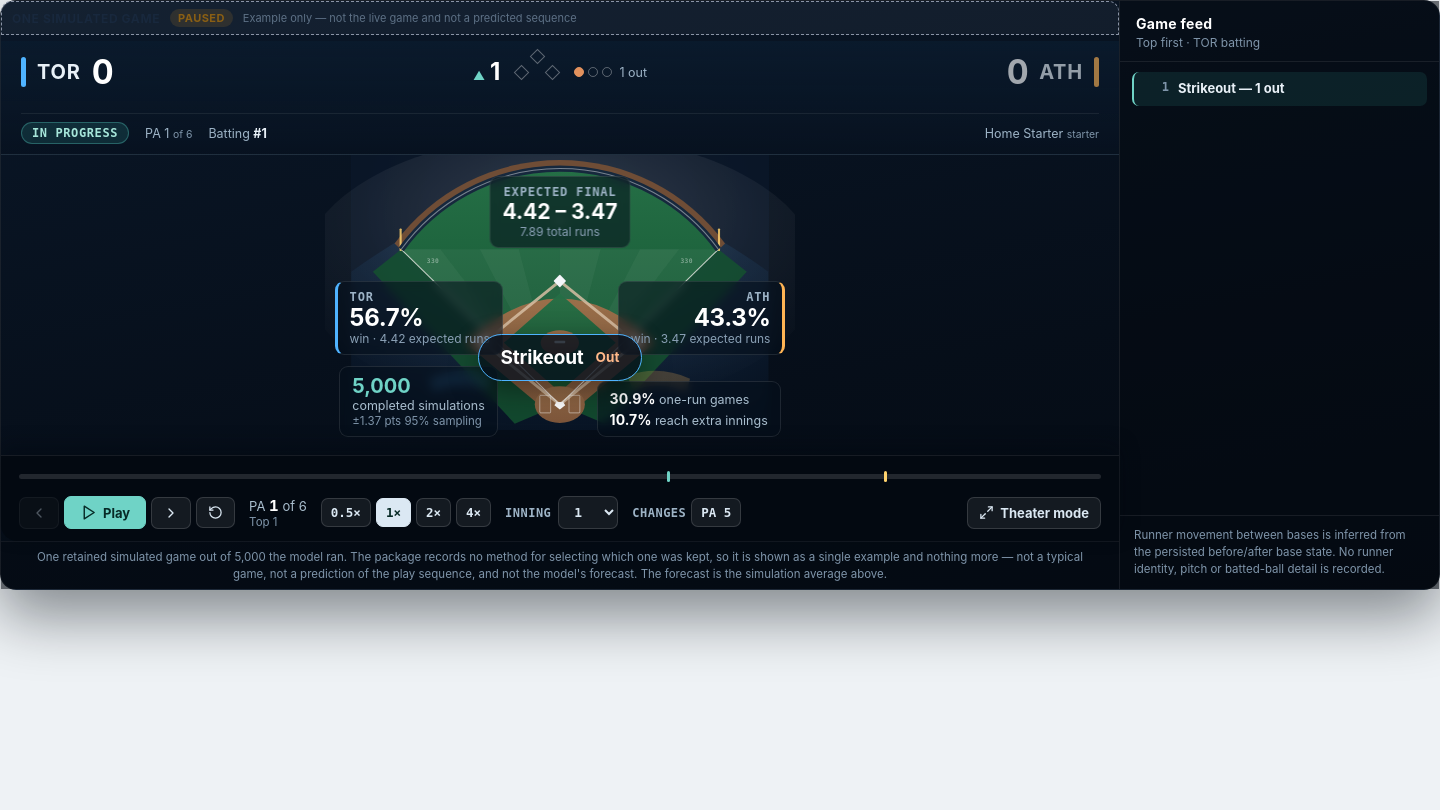
Test: the scorebug reflects persisted state › tracks score, outs, inning and base state through the path
Set the slider named "Plate appearance 1 of 6" to "3": [560, 498] box [1,455,1119,541]
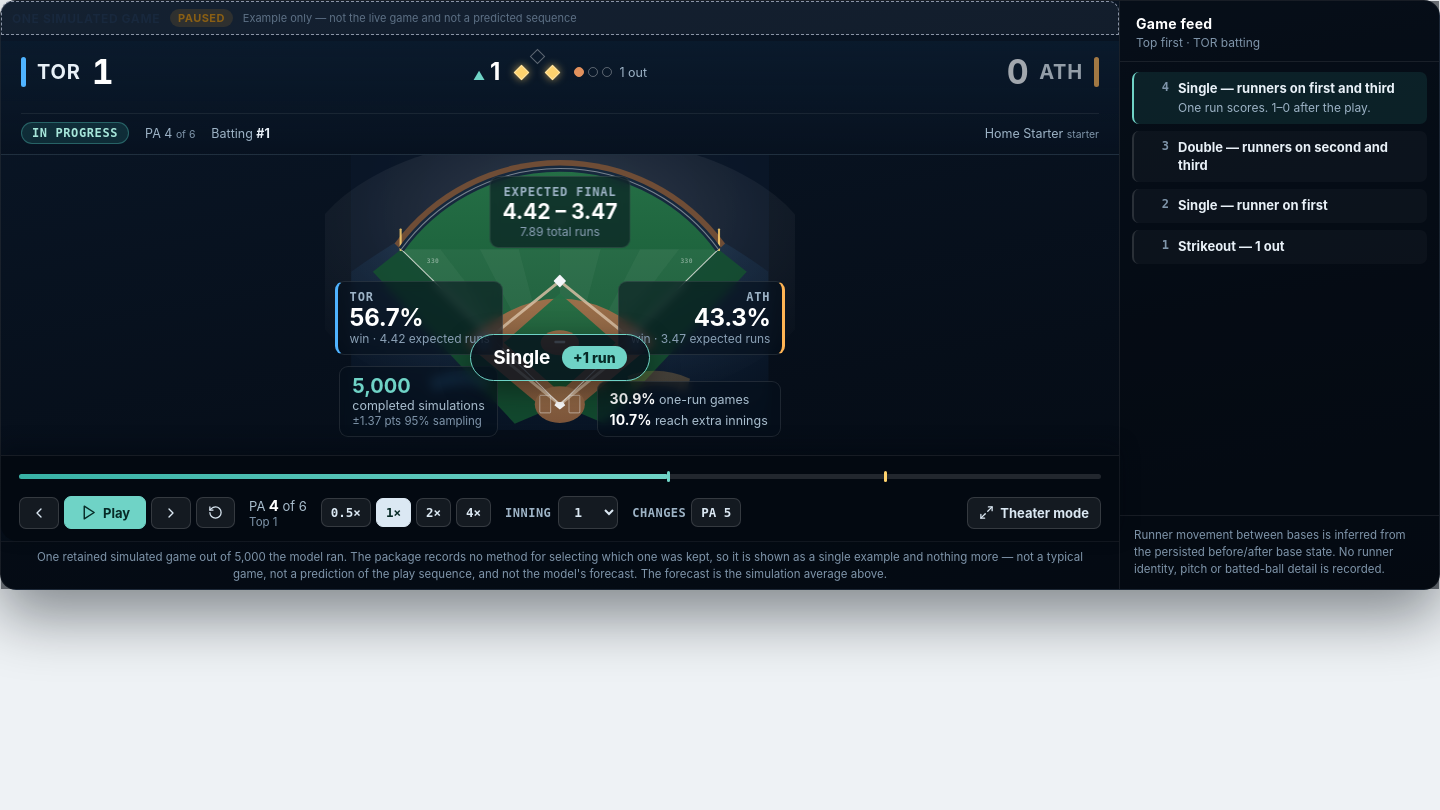
Expected: the element named "scoreboard" shows "1", [92,51,113,92]
Expected: the picture named "runner on first, runner on third" is shown, [516,51,558,93]
